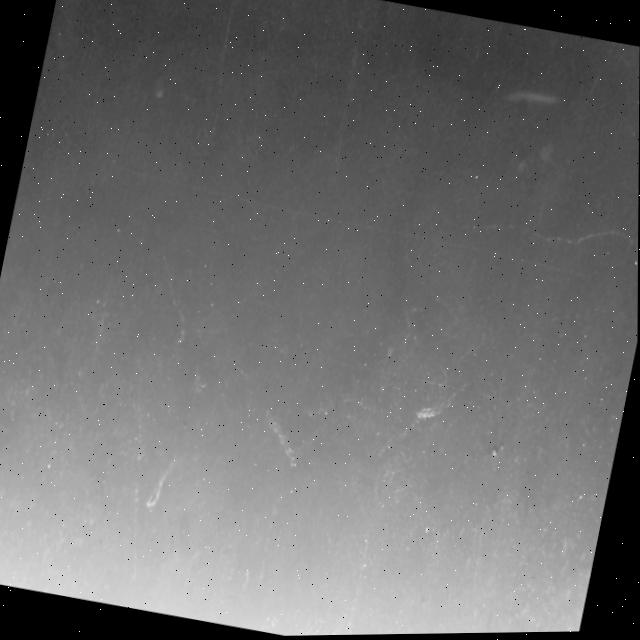beta: (90, 354, 184, 599), (440, 197, 639, 311), (320, 0, 377, 200), (193, 0, 247, 178), (450, 515, 506, 635), (141, 243, 202, 347), (341, 504, 379, 636), (145, 454, 178, 514), (582, 66, 606, 115)
